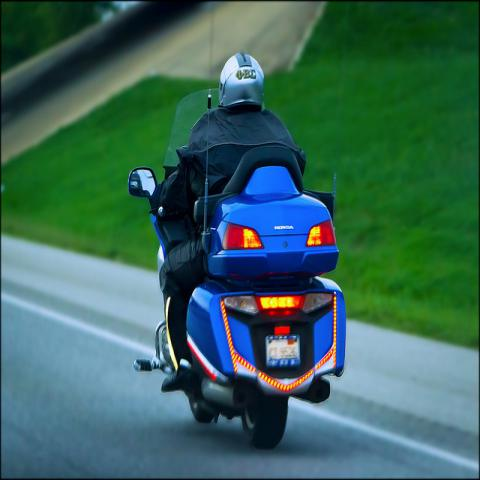motorcycle: (167, 167, 344, 446)
